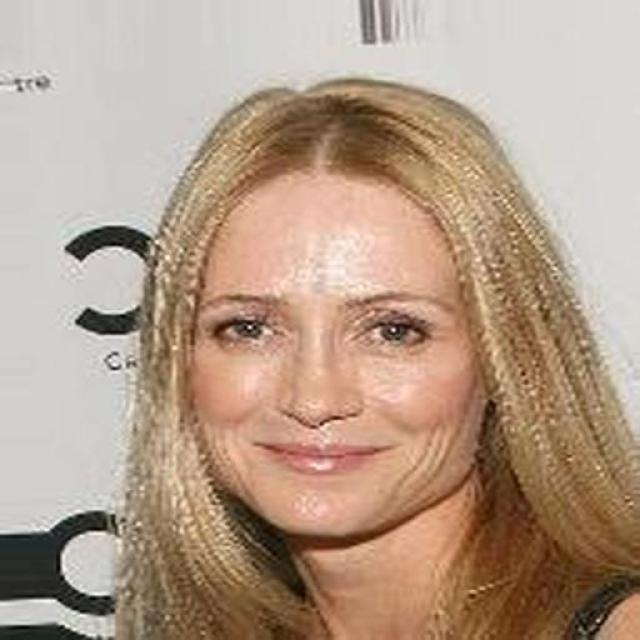bareface: (162, 146, 532, 544)
